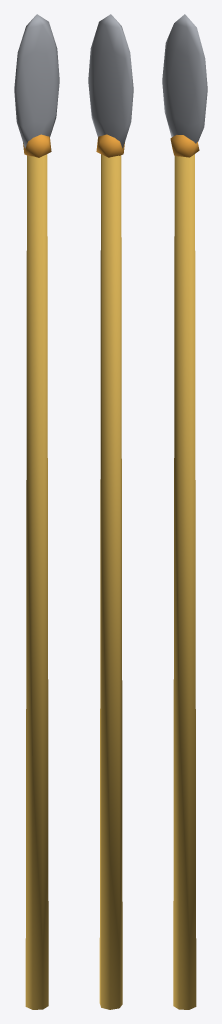
The model's file is daybreak.glb.
The picture shows the model from 3 angles, left to right: view 1: azimuth 30°, elevation 25°; view 2: azimuth 150°, elevation 25°; view 3: azimuth 330°, elevation 25°; orthographic projection.
Parts seen in each view (by area): view 1: daybreak_v0; view 2: daybreak_v0; view 3: daybreak_v0.
Boxes of the visible parts, x1,y1,x2,y2 form: daybreak_v0: (14,14,59,1009); daybreak_v0: (88,14,133,1009); daybreak_v0: (162,14,207,1009).
Bounding box in the file's own units: 0.0761 × 1.67 × 0.0425.
